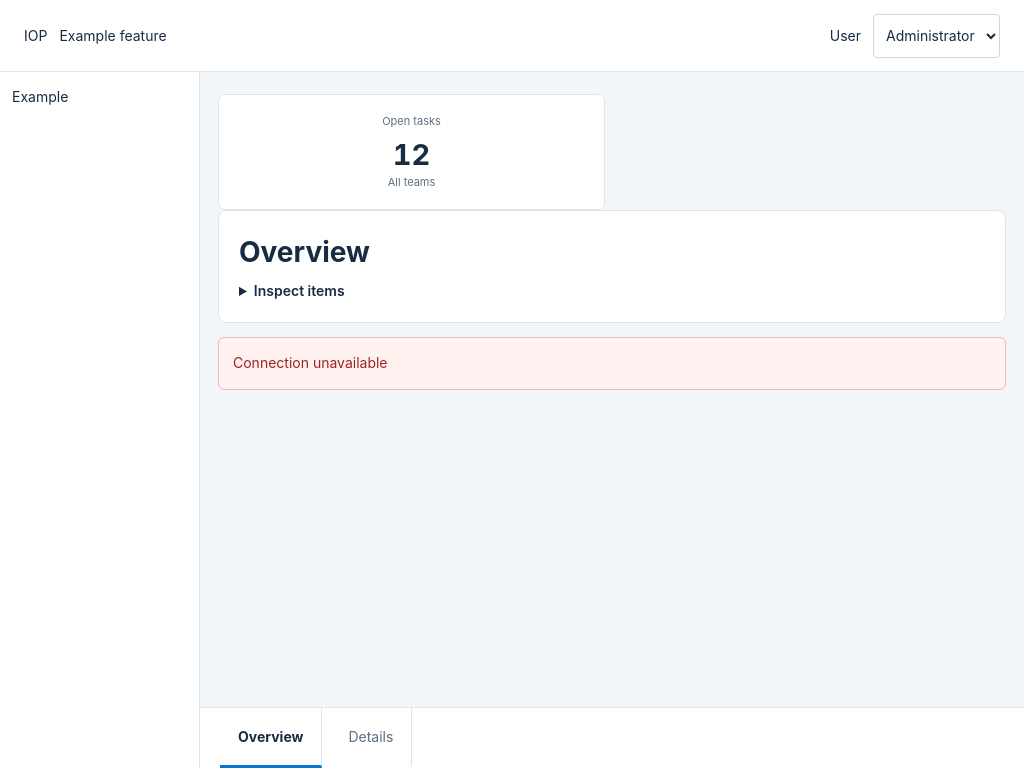
another feature can compose the identity shell, surfaces and view navigation without analysis dependencies
expect the text "Open tasks" is shown: met, box [382,114,441,128]
Click the heading "Inspect items". click: (299, 290)
box: [254,282,345,299]
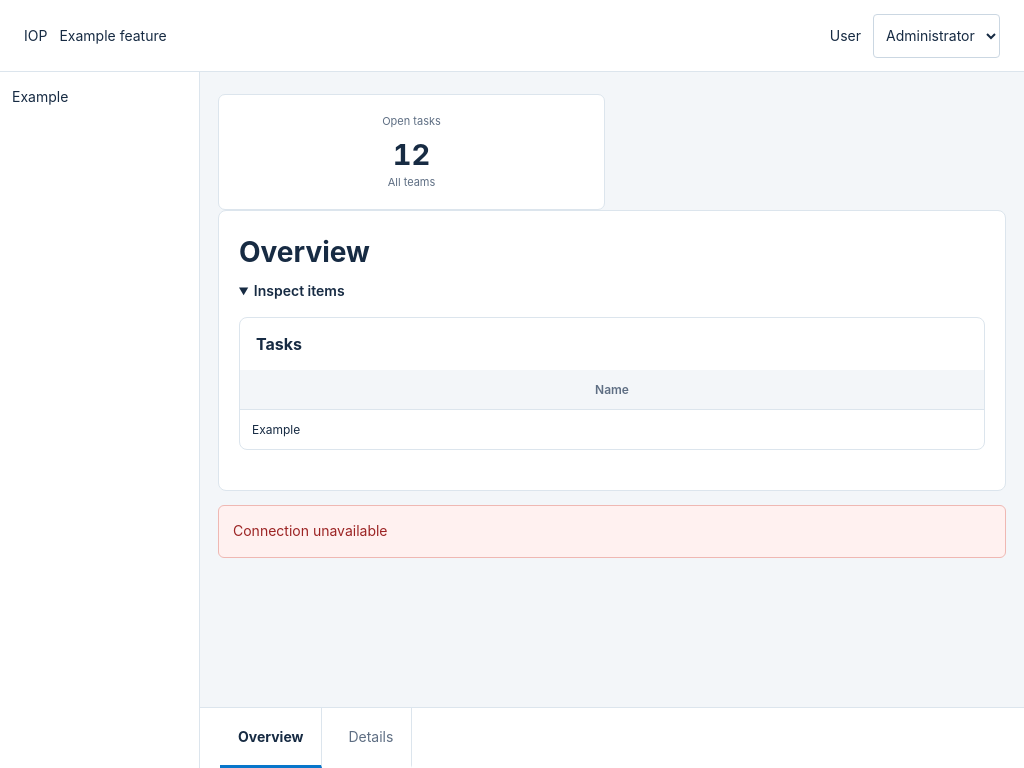
expect the table "Tasks" is shown: met, box [240,318,984,449]
Click the button "Details". click: (371, 738)
box: [330,708,412,767]
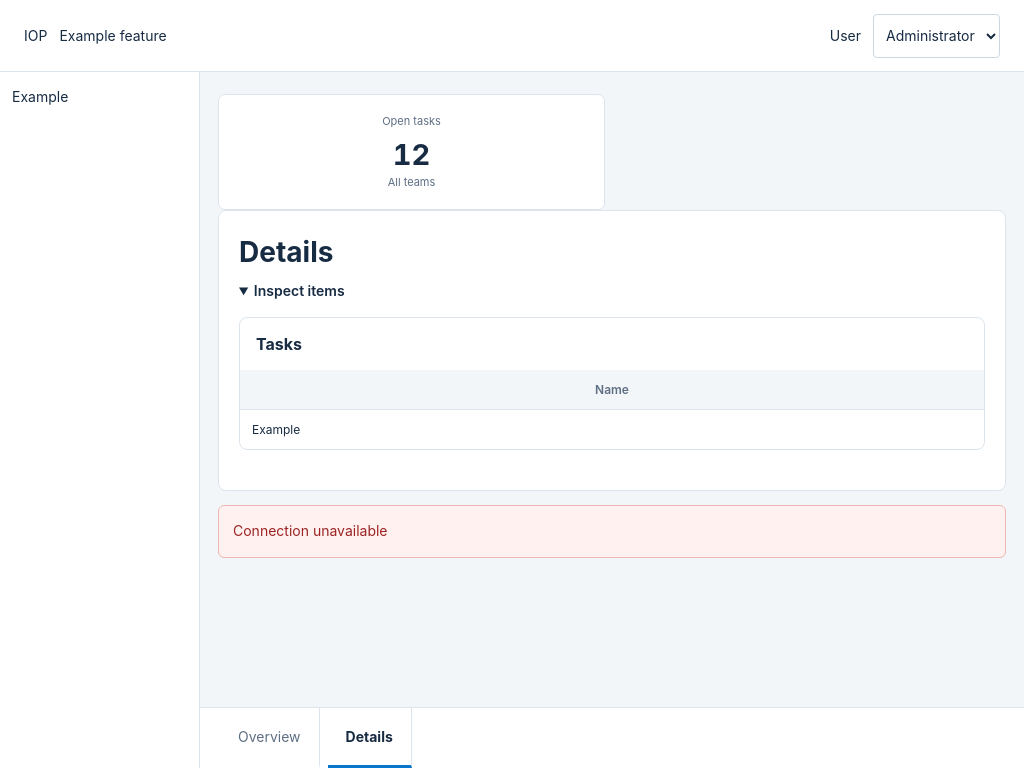
expect the message reads "Connection unavailable": met, box [233,522,388,539]
expect the heading "Details" is shown: met, box [239,235,333,269]
